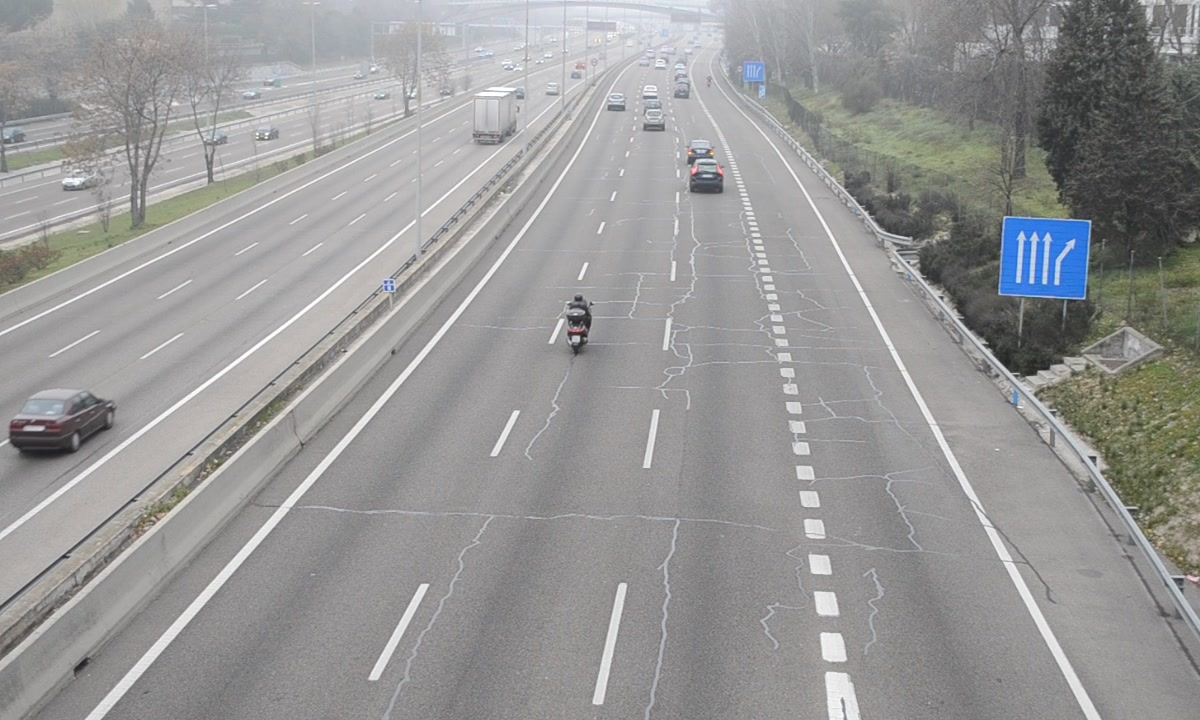car: (689, 159, 724, 194), (687, 139, 715, 162)
motorcycle: (563, 291, 593, 356)
